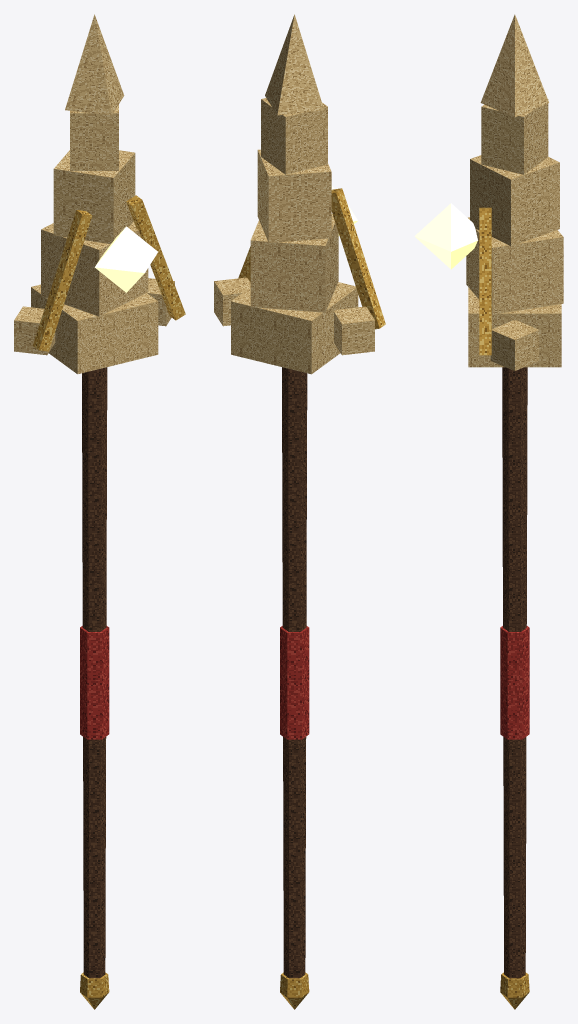
File: staff_sandspire.glb
3 views of the same model, side by side, from view 1: azimuth 30°, elevation 25°; view 2: azimuth 150°, elevation 25°; view 3: azimuth 270°, elevation 25° (orthographic).
Parts seen in each view (by area): view 1: Body.006; view 2: Body.006; view 3: Body.006.
Part boxes in pixels (x1,y1,x2,y2): Body.006: (14, 14, 185, 1009); Body.006: (214, 14, 385, 1009); Body.006: (414, 14, 563, 1009).
Bounding box in the file's own units: 0.379 × 2.24 × 0.3043.
Materials: 5 (4 with a texture image).
